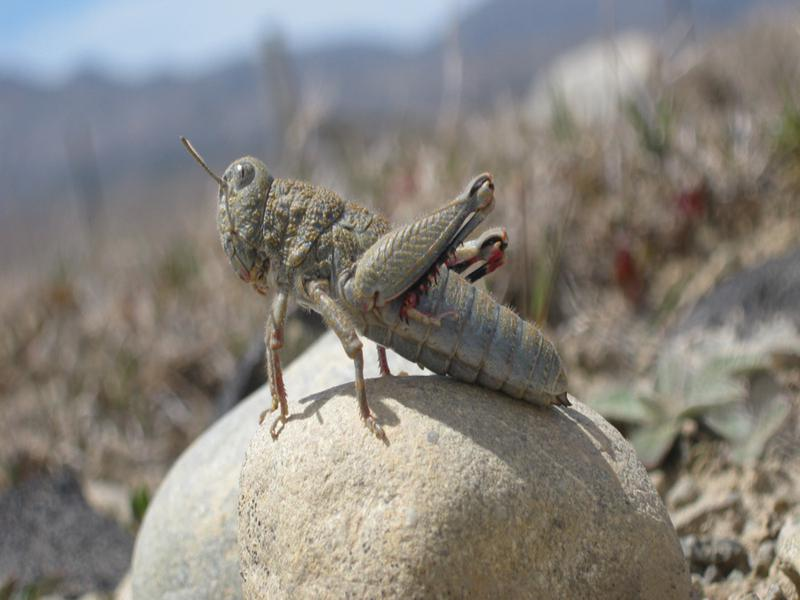Grasshopper: (182, 142, 602, 422)
